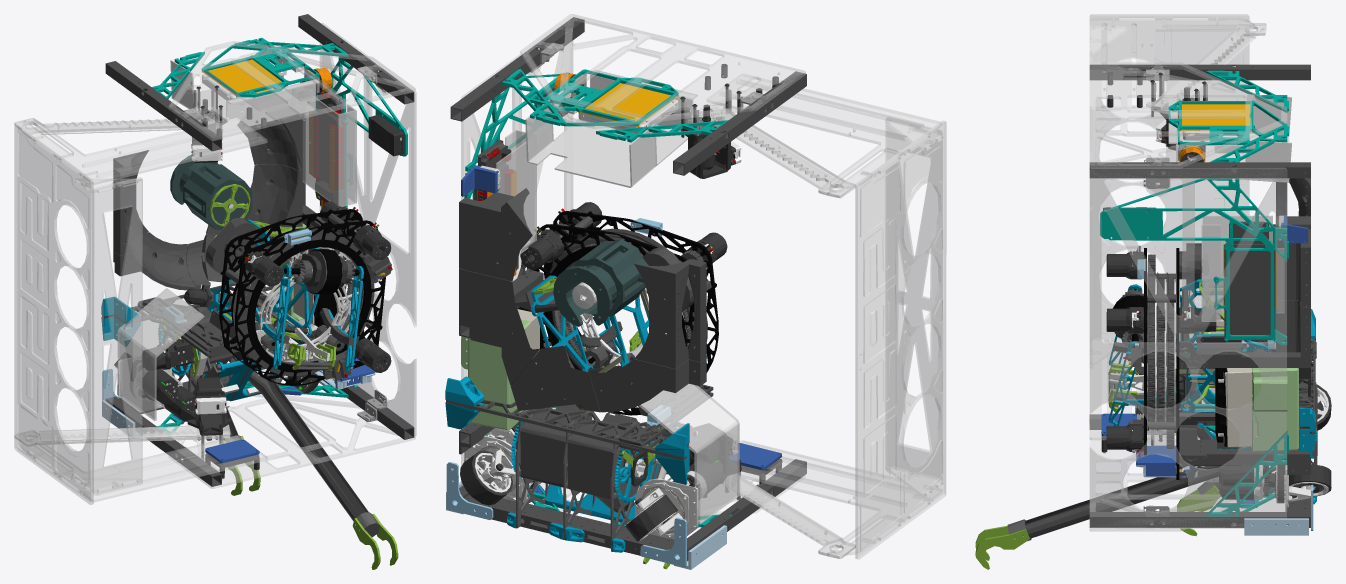
3 renders of one model, left to right at view 1: azimuth 30°, elevation 25°; view 2: azimuth 150°, elevation 25°; view 3: azimuth 270°, elevation 25°, orthographic. The views are drawn at different scales.
Visible parts, largest first — view 1: main_mesh, c0_mesh, c1_mesh; view 2: main_mesh, c0_mesh, c1_mesh; view 3: main_mesh, c0_mesh, c1_mesh.
Boxes of the visible parts, left/top/right/bottom form: main_mesh: left=101, top=14, right=416, bottom=569; c0_mesh: left=14, top=89, right=267, bottom=504; c1_mesh: left=242, top=234, right=374, bottom=376; main_mesh: left=445, top=14, right=806, bottom=569; c0_mesh: left=683, top=74, right=946, bottom=559; c1_mesh: left=567, top=228, right=707, bottom=368; main_mesh: left=975, top=62, right=1331, bottom=569; c0_mesh: left=1089, top=14, right=1266, bottom=445; c1_mesh: left=1108, top=272, right=1176, bottom=430.
Size of the model in its own units: 0.8446 by 1.04 by 0.7623.
